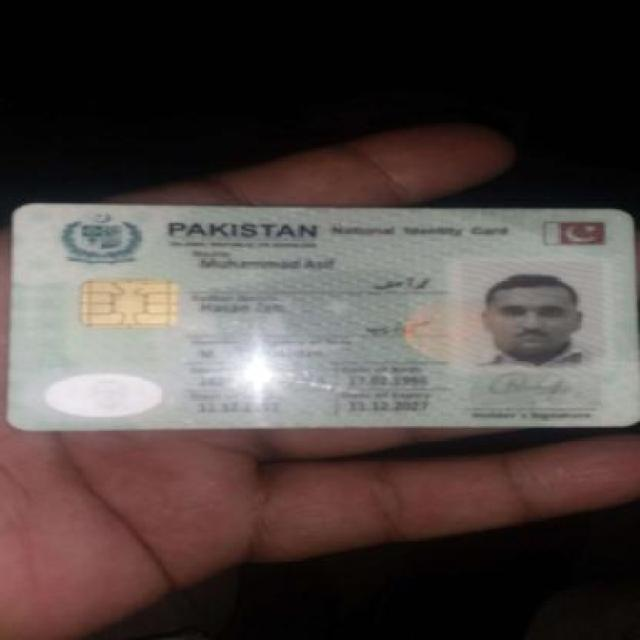Front: (9, 195, 637, 431)
